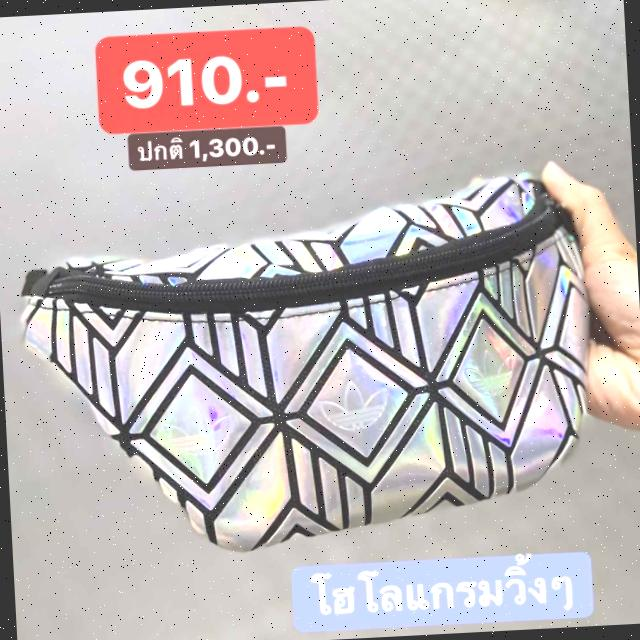Handbag: (16, 170, 624, 566)
